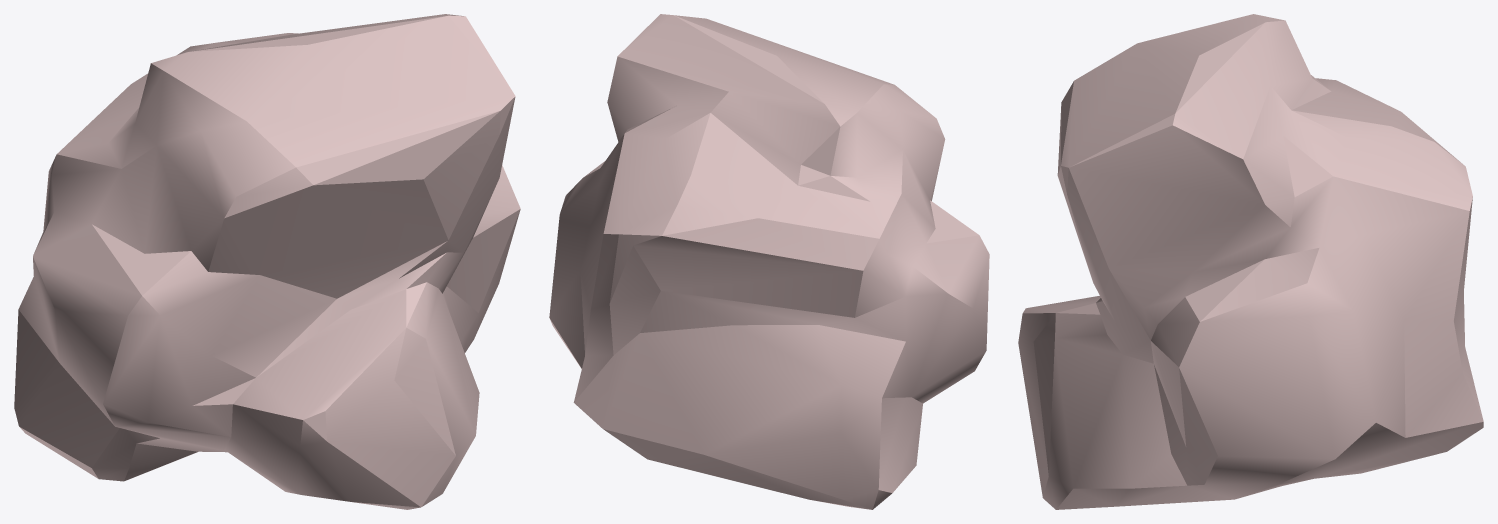
File: coal.fbx
The picture shows the model from 3 angles, left to right: view 1: azimuth 30°, elevation 25°; view 2: azimuth 150°, elevation 25°; view 3: azimuth 270°, elevation 25°; orthographic projection. The views are drawn at different scales.
Visible parts, largest first — view 1: coal; view 2: coal; view 3: coal.
Boxes of the visible parts, <box> form: coal: <box>14,14,520,509</box>; coal: <box>549,14,989,509</box>; coal: <box>1018,14,1483,509</box>.
Bounding box in the file's own units: 4.87 × 4.36 × 4.52.
